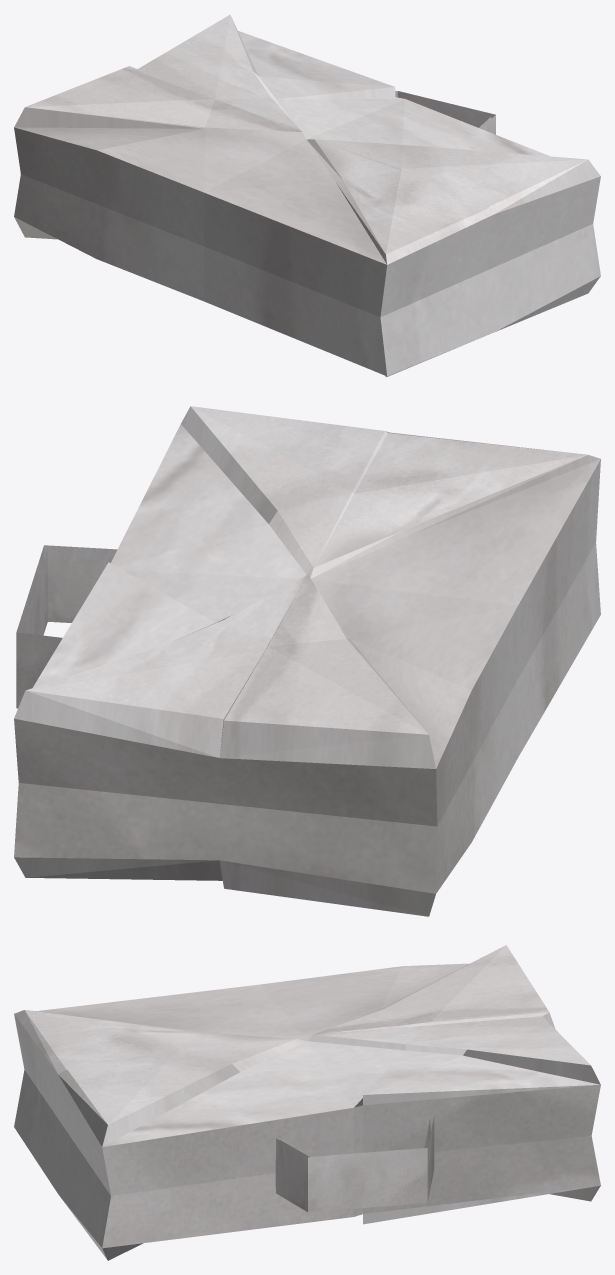
File: Maleta2.FBX
3 renders of one model, top to bottom at view 1: azimuth 30°, elevation 25°; view 2: azimuth 150°, elevation 25°; view 3: azimuth 270°, elevation 25°, orthographic. The views are drawn at different scales.
Visible parts, largest first — view 1: Maleta2; view 2: Maleta2; view 3: Maleta2.
Boxes of the visible parts, x1,y1,x2,y2 form: Maleta2: (14,14,600,377); Maleta2: (14,406,600,916); Maleta2: (14,945,600,1260).
Bounding box in the file's own units: 75.16 × 25.53 × 97.83.
